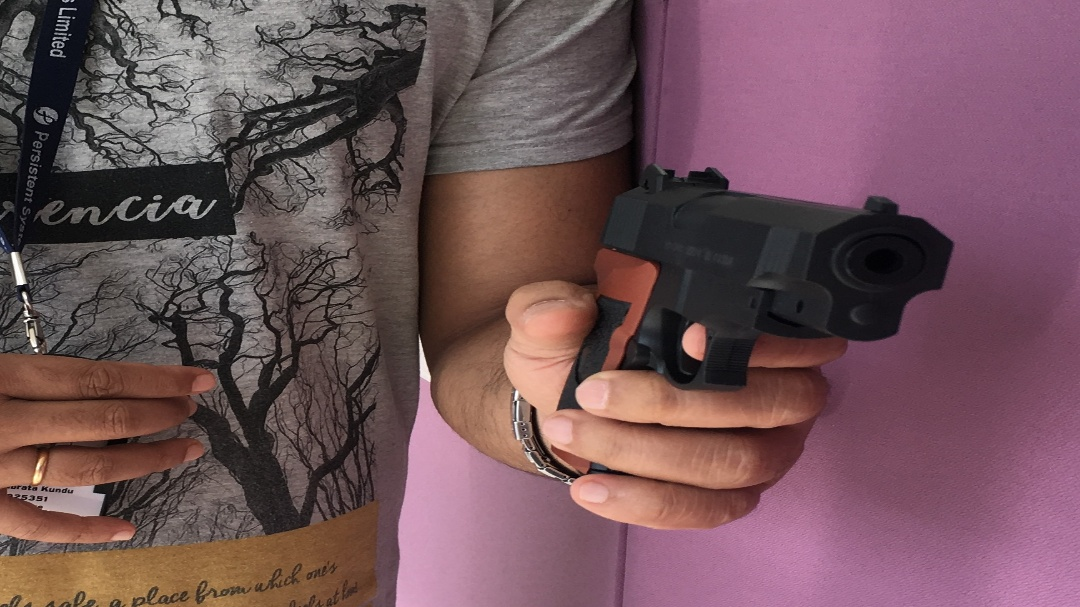gun: (591, 162, 959, 395)
